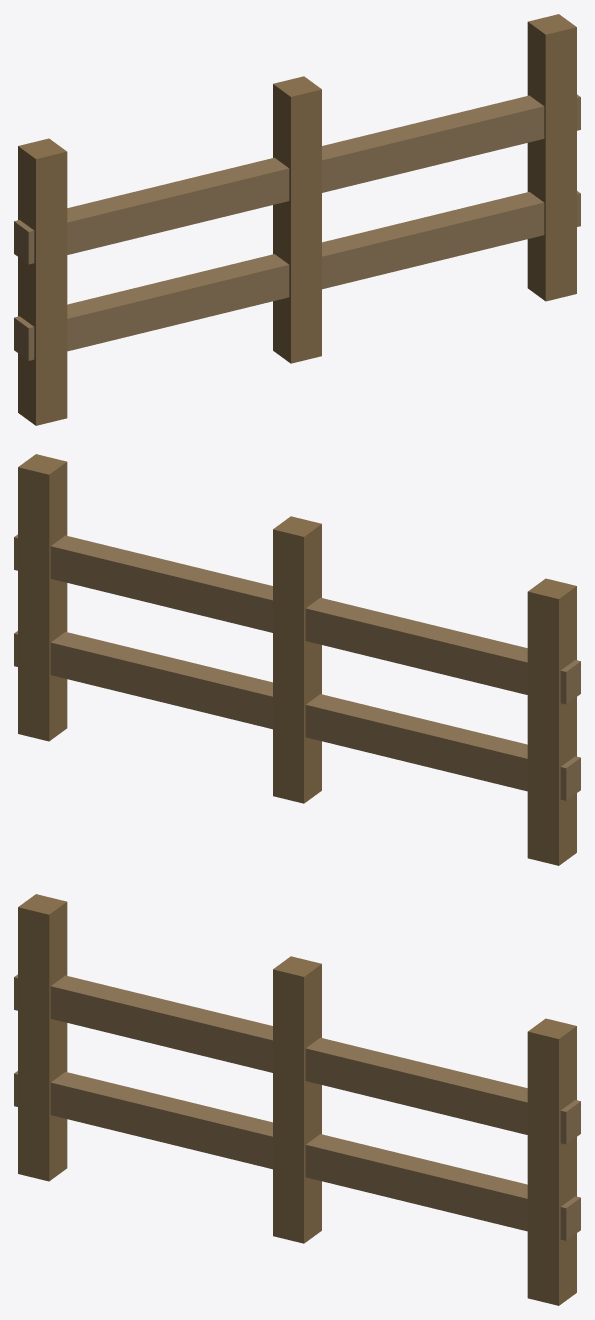
Rendered from fence.glb.
3 views of the same model, one above another, from view 1: azimuth 30°, elevation 25°; view 2: azimuth 150°, elevation 25°; view 3: azimuth 330°, elevation 25° (orthographic).
Parts seen in each view (by area): view 1: world; view 2: world; view 3: world.
Boxes of the visible parts, x1,y1,x2,y2 form: world: (14,14,580,425); world: (14,454,580,865); world: (14,894,580,1305).
Bounding box in the file's own units: 3.9 × 1.8 × 0.22.
